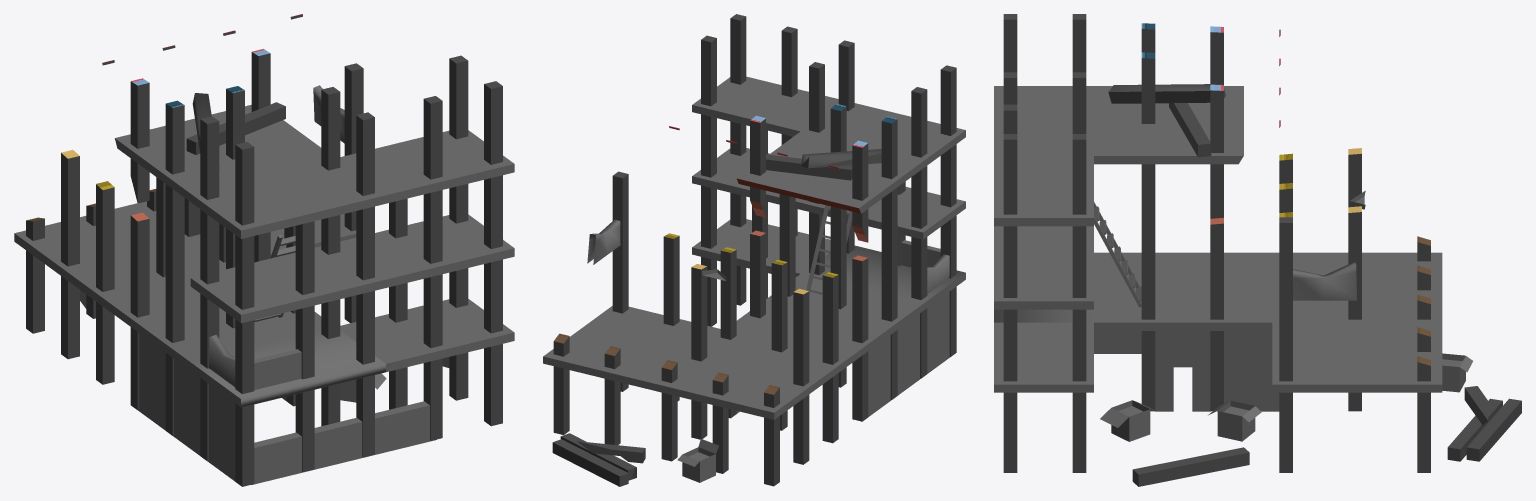
File: building_damaged.glb
The picture shows the model from 3 angles, left to right: view 1: azimuth 30°, elevation 25°; view 2: azimuth 150°, elevation 25°; view 3: azimuth 270°, elevation 25°; orthographic projection. The views are drawn at different scales.
Visible parts, largest first — view 1: dingsbums.001; view 2: dingsbums.001; view 3: dingsbums.001.
Boxes of the visible parts, <box> form: dingsbums.001: <box>14,14,514,486</box>; dingsbums.001: <box>543,14,965,486</box>; dingsbums.001: <box>994,14,1521,486</box>.
Size of the model in its own units: 7.43 by 8.11 by 11.59.
1 material, 1 textured.
